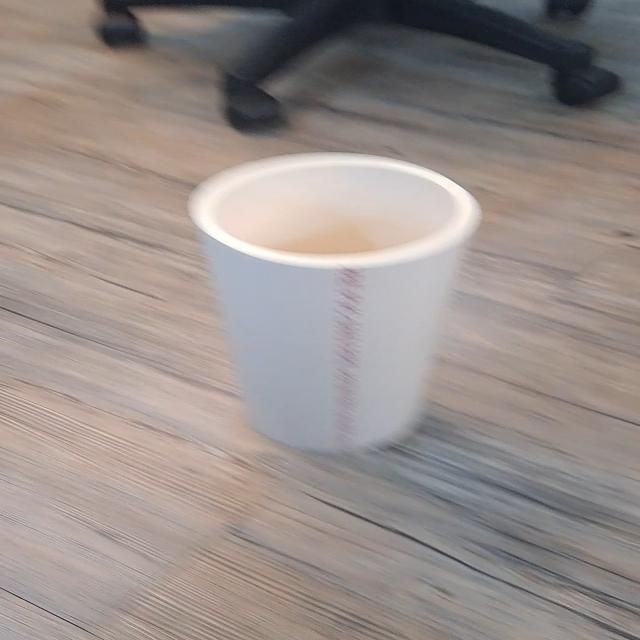CORAL: (187, 146, 485, 462)
